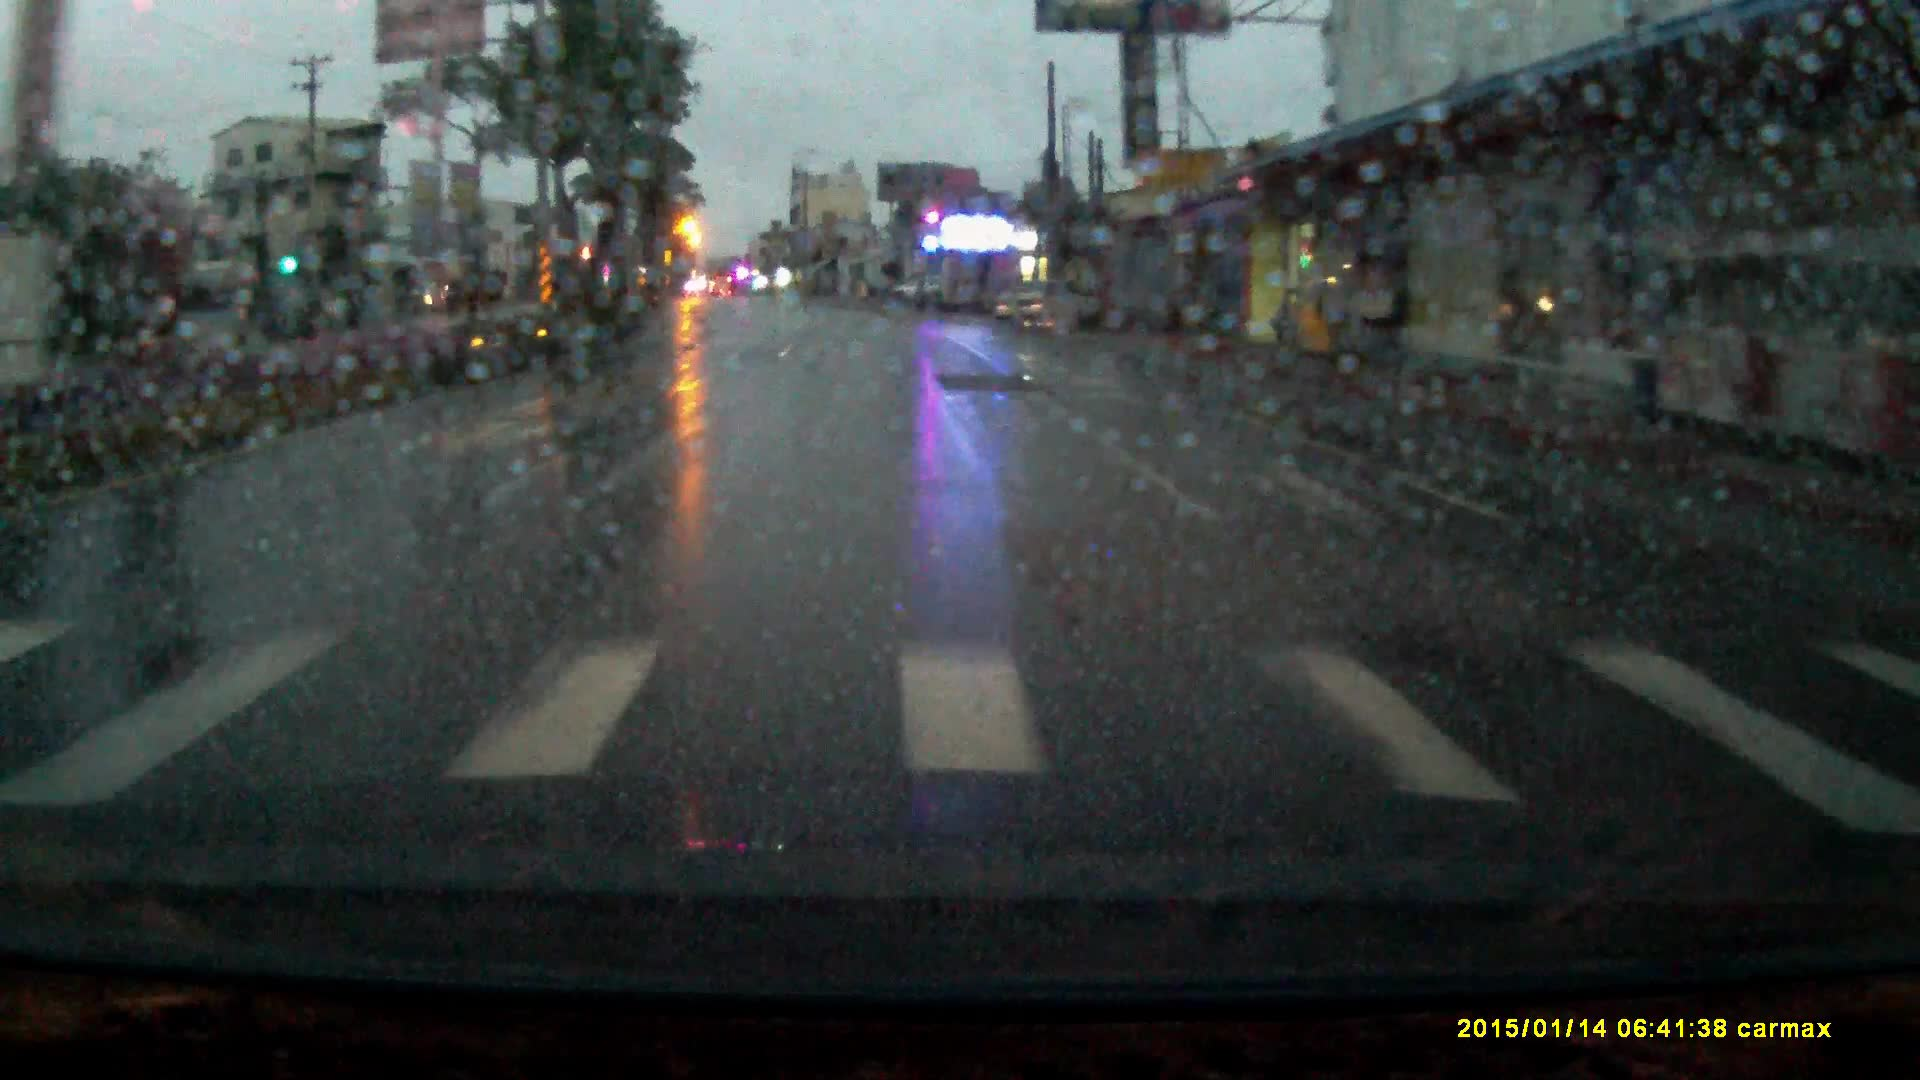vehicle: (998, 286, 1085, 334), (891, 280, 944, 309)
